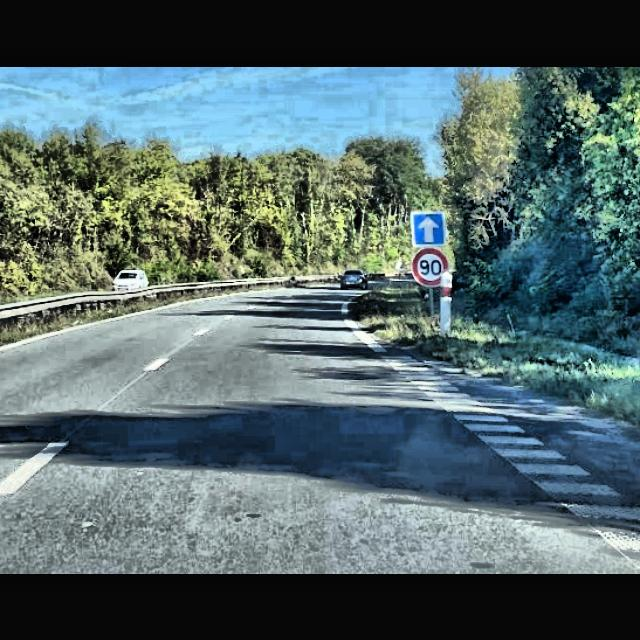speed_90: (413, 247, 447, 285)
